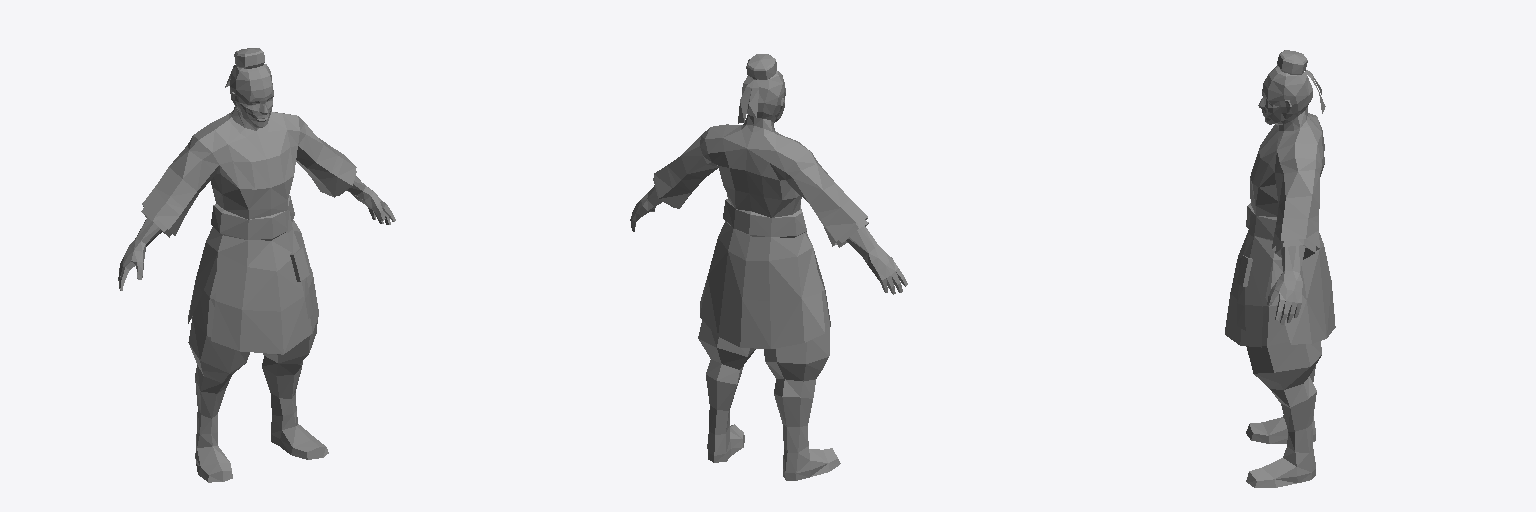
3 renders of one model, left to right at view 1: azimuth 30°, elevation 25°; view 2: azimuth 150°, elevation 25°; view 3: azimuth 270°, elevation 25°, orthographic.
Parts seen in each view (by area): view 1: n_ca023; view 2: n_ca023; view 3: n_ca023.
Boxes of the visible parts, <box> form: n_ca023: <box>118,48,395,482</box>; n_ca023: <box>630,54,907,480</box>; n_ca023: <box>1225,50,1335,487</box>.
Size of the model in its own units: 170 by 239 by 59.55.